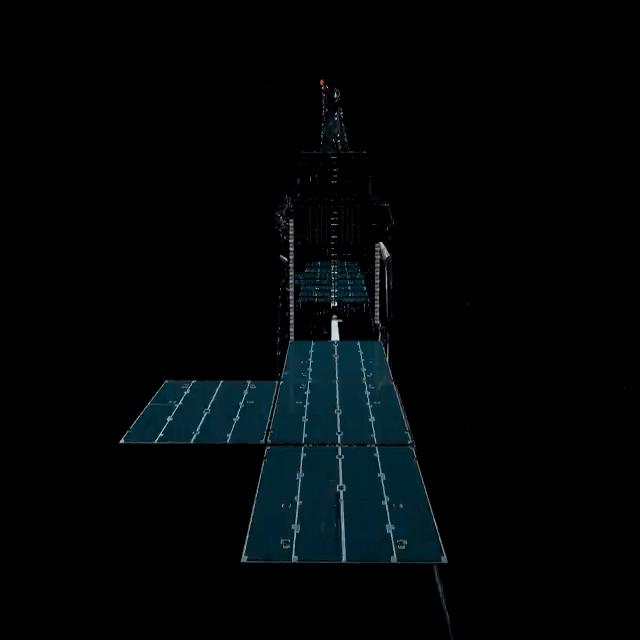satellite: (120, 52, 438, 628)
